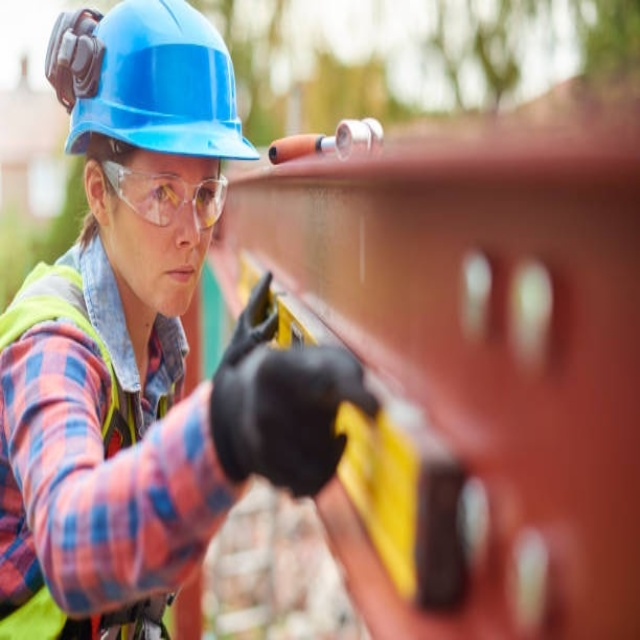Gafas: (102, 160, 228, 237)
Guantes: (210, 274, 378, 500)
Sin_mascara: (157, 259, 199, 309)
